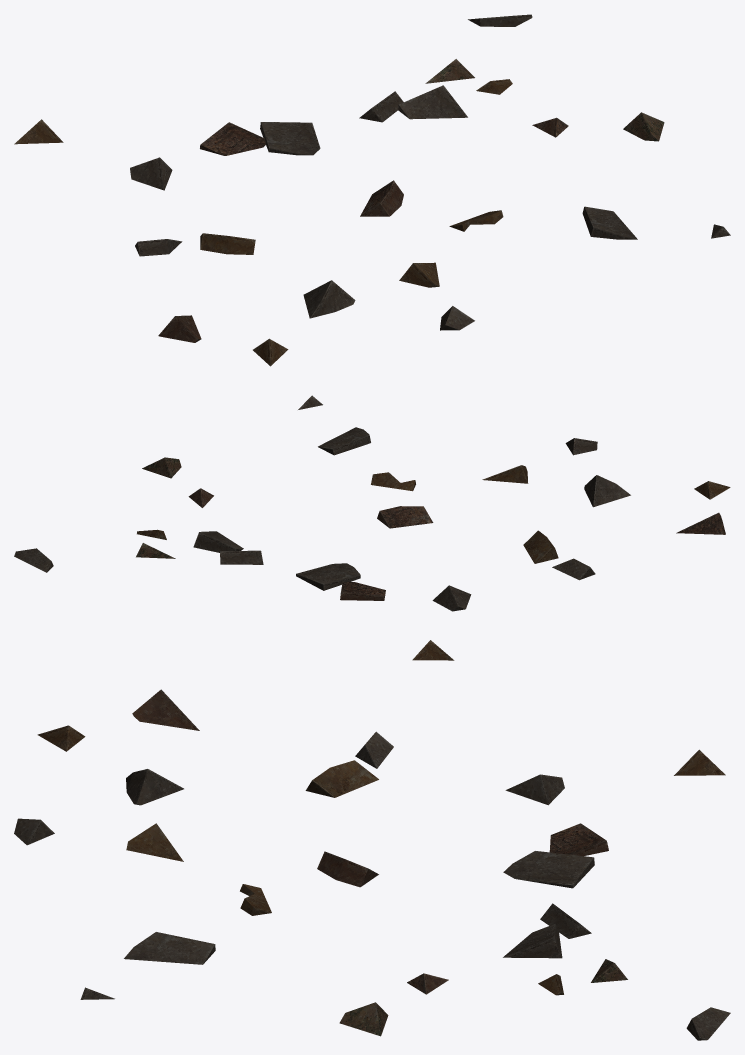
File: debris_bricks_mx_2_0.glb
The picture shows the model from 3 angles, top to bottom: view 1: azimuth 30°, elevation 25°; view 2: azimuth 150°, elevation 25°; view 3: azimuth 270°, elevation 25°; orthographic projection. The views are drawn at different scales.
Visible parts, largest first — view 1: debris_bricks_mx_2_0; view 2: debris_bricks_mx_2_0; view 3: debris_bricks_mx_2_0.
Part boxes in pixels (x1=…): debris_bricks_mx_2_0: x1=14, y1=14, x2=730, y2=366; debris_bricks_mx_2_0: x1=14, y1=395, x2=730, y2=660; debris_bricks_mx_2_0: x1=14, y1=689, x2=730, y2=1040.
Bounding box in the file's own units: 1.88 × 0.0701 × 1.69.
Materials: 1 (1 with a texture image).
